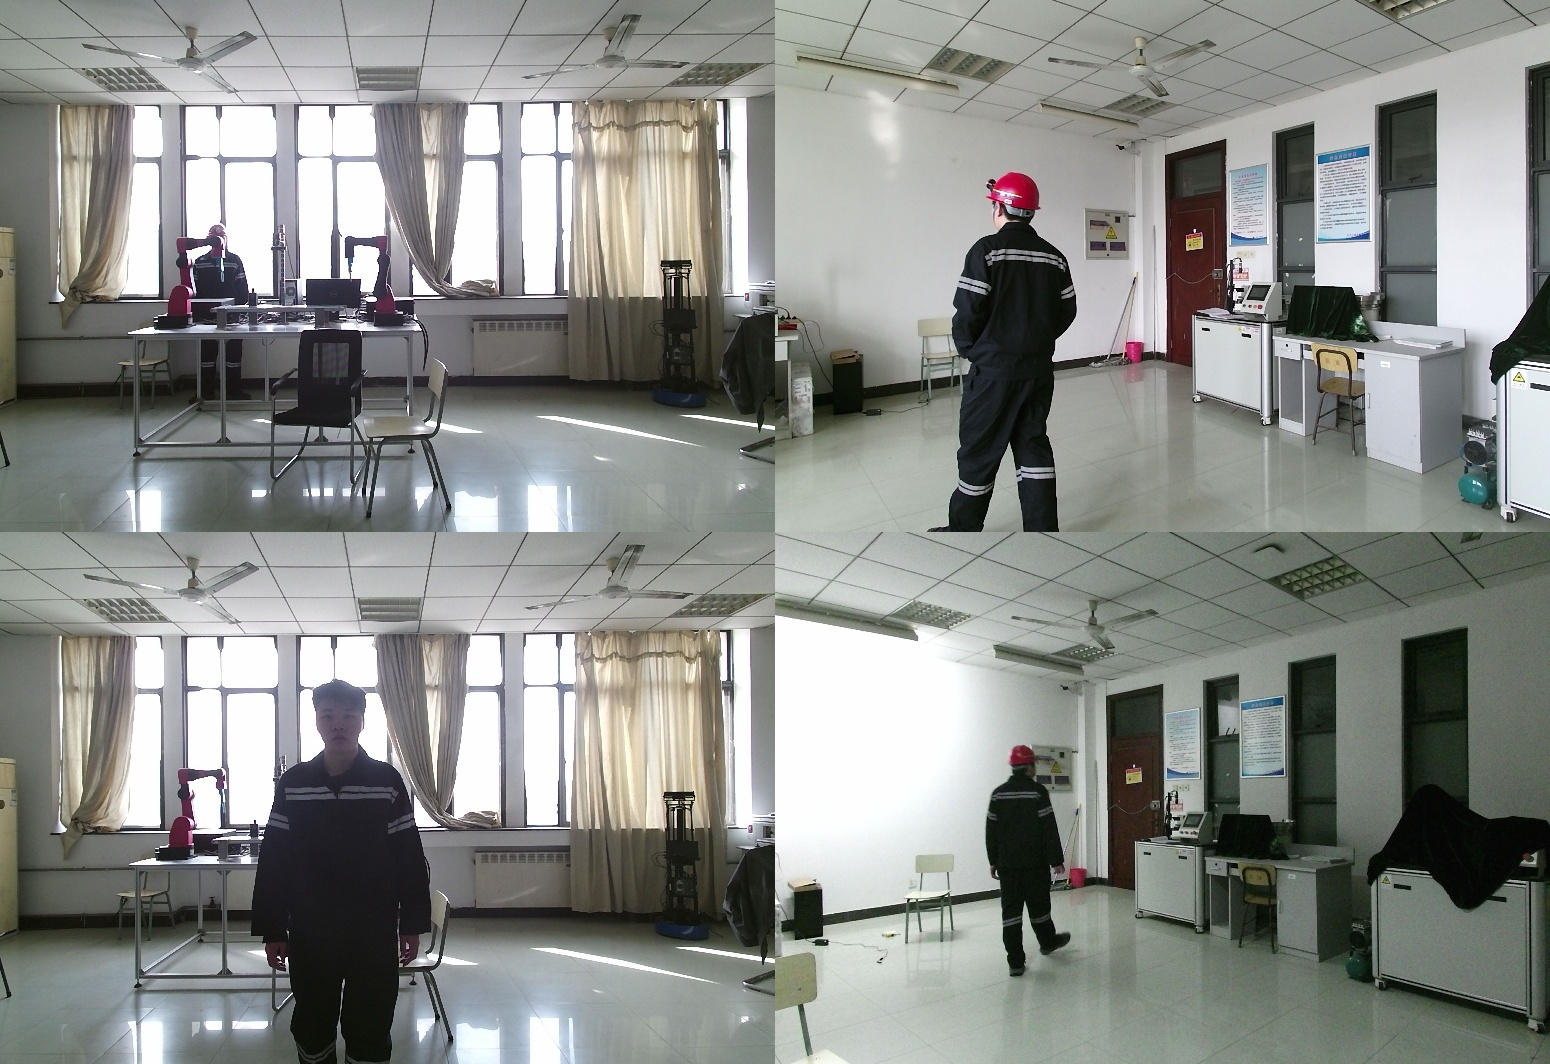person: (255, 681, 442, 1064), (927, 172, 1094, 532), (976, 744, 1073, 979), (193, 224, 249, 404)
